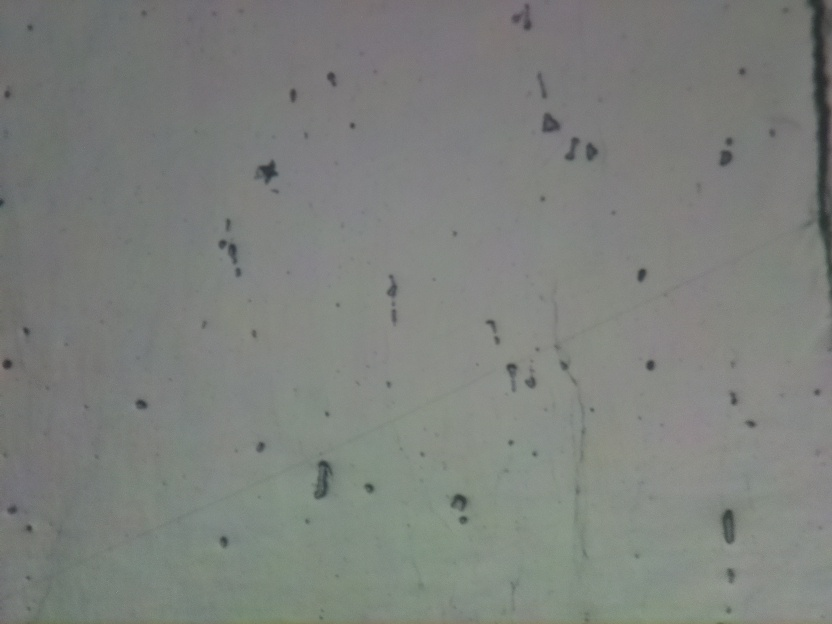crack: (811, 0, 832, 285)
